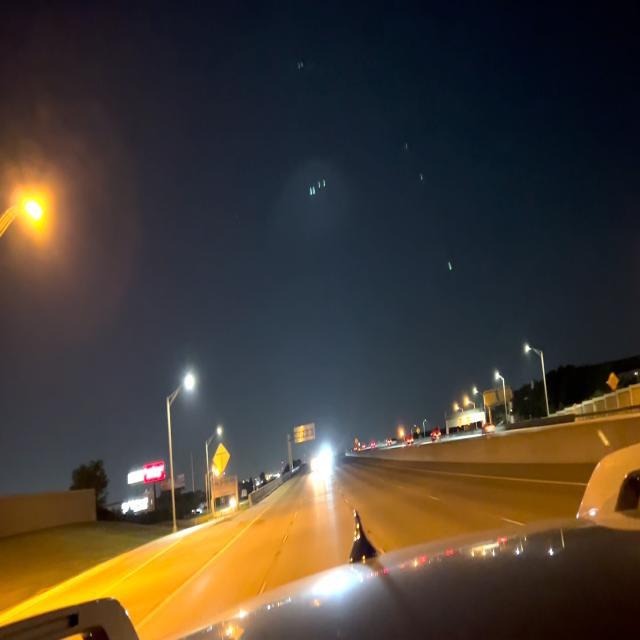back-of-sign: (213, 443, 231, 474)
